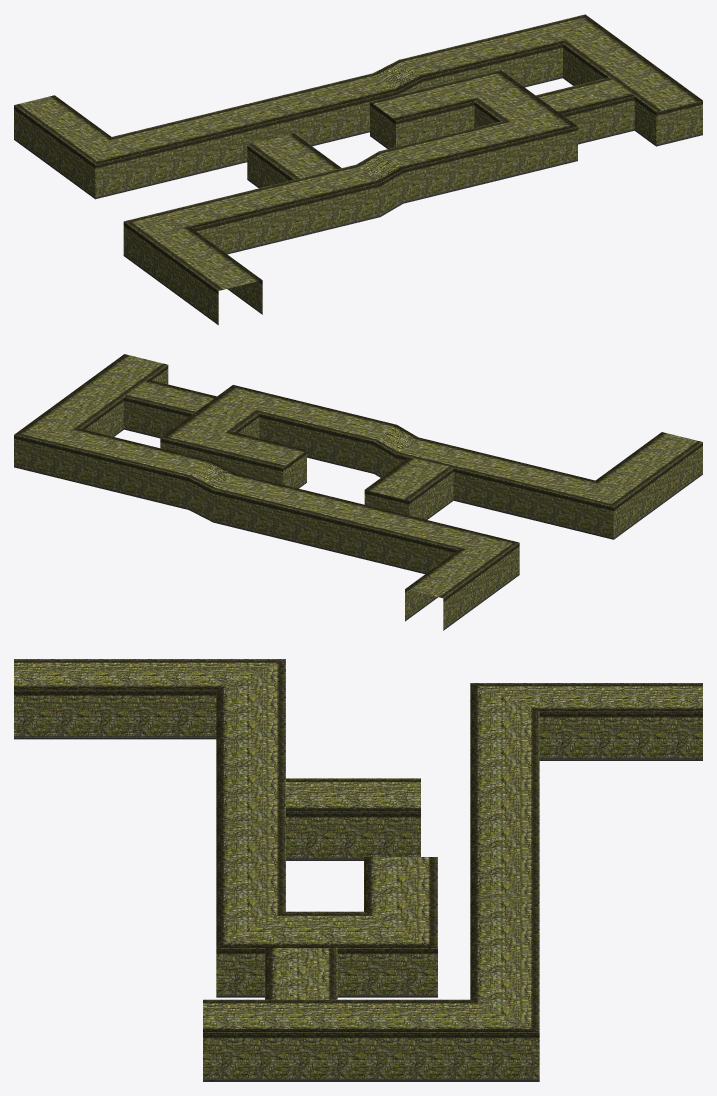
Rendered from Under_City_Hallway_1_wall01.FBX.
3 views of the same model, one above another, from view 1: azimuth 30°, elevation 25°; view 2: azimuth 150°, elevation 25°; view 3: azimuth 270°, elevation 25° (orthographic). The views are drawn at different scales.
Visible parts, largest first — view 1: Object006; view 2: Object006; view 3: Object006.
Part boxes in pixels (x1,y1,x2,y2): Object006: (14,14,702,325); Object006: (14,354,702,630); Object006: (14,659,702,1081).
Bounding box in the file's own units: 9178 × 678 × 6953.
Materials: 2 (2 with a texture image).
